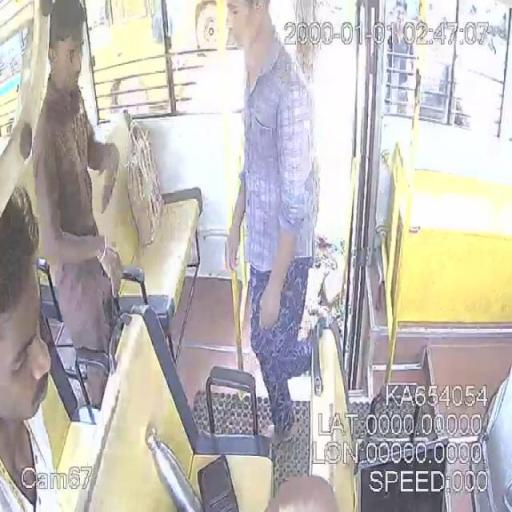persona: (222, 0, 321, 442), (31, 1, 125, 410), (0, 184, 61, 511)
